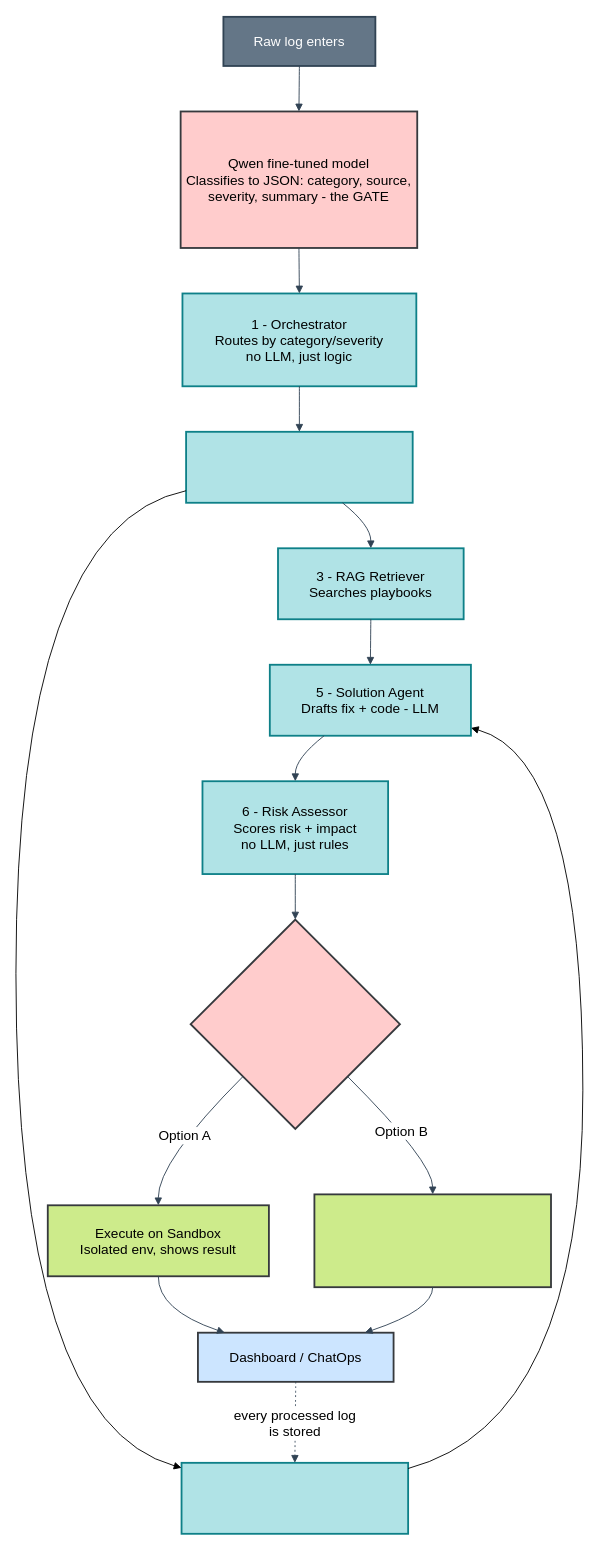
The diagram is 599 pixels wide and 1550 high, and some of its shapes have lost their labels. The shapes that lost their labels are listed below. From the top down, each one's centre as x and y in pixels, then its label:
pixel 299 466: 2 - Diagnostic Agent Analyzes root cause - LLM
pixel 294 1023: Solution + risk shown User chooses
pixel 432 1240: Code + Report User takes it, runs it themselves
pixel 294 1497: 4 - Historical Agent Searches incident memory
